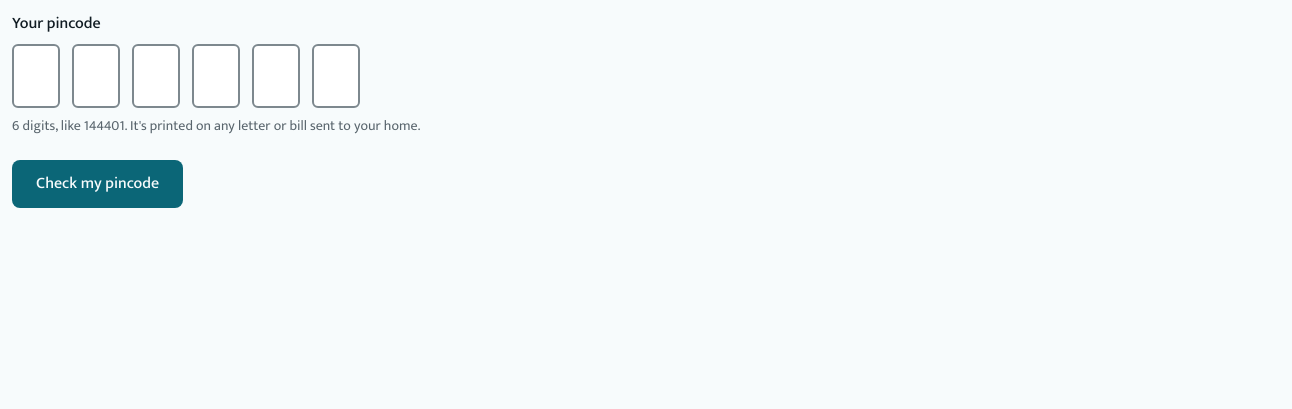
Test: PincodeInput › offers the waitlist and no Report button for a pincode we don't cover
Step 1. Type "110001" into the field labelled "Your pincode" → (186, 76), box [12,44,360,108]
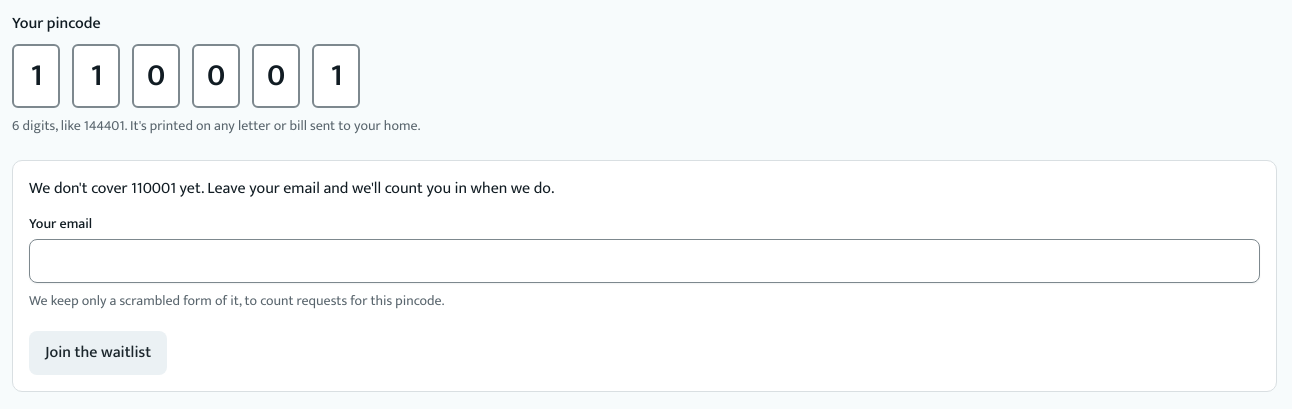
Now the field labelled "Your email" is shown, box [29,239,1260,283]
Now the button "Check my pincode" is gone
